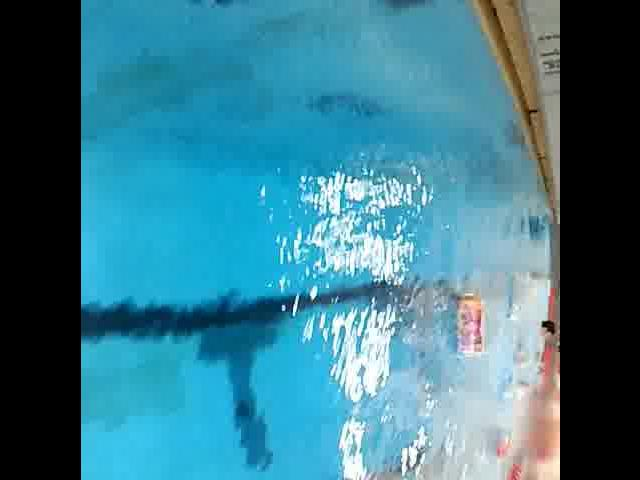Bottle: (488, 422, 516, 468)
Can: (450, 282, 490, 370)
